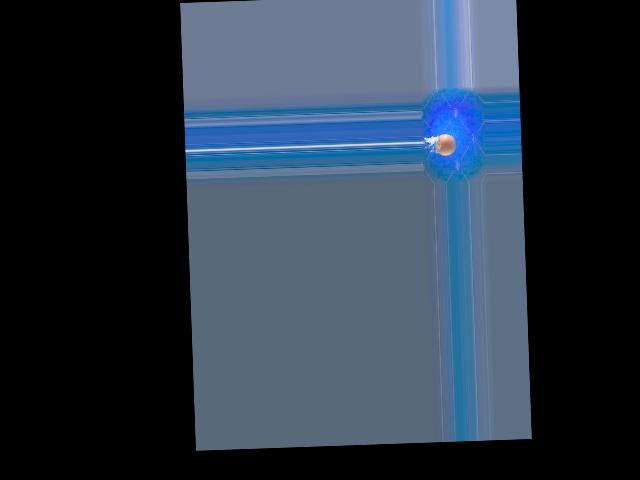tomato: (435, 134, 455, 156)
